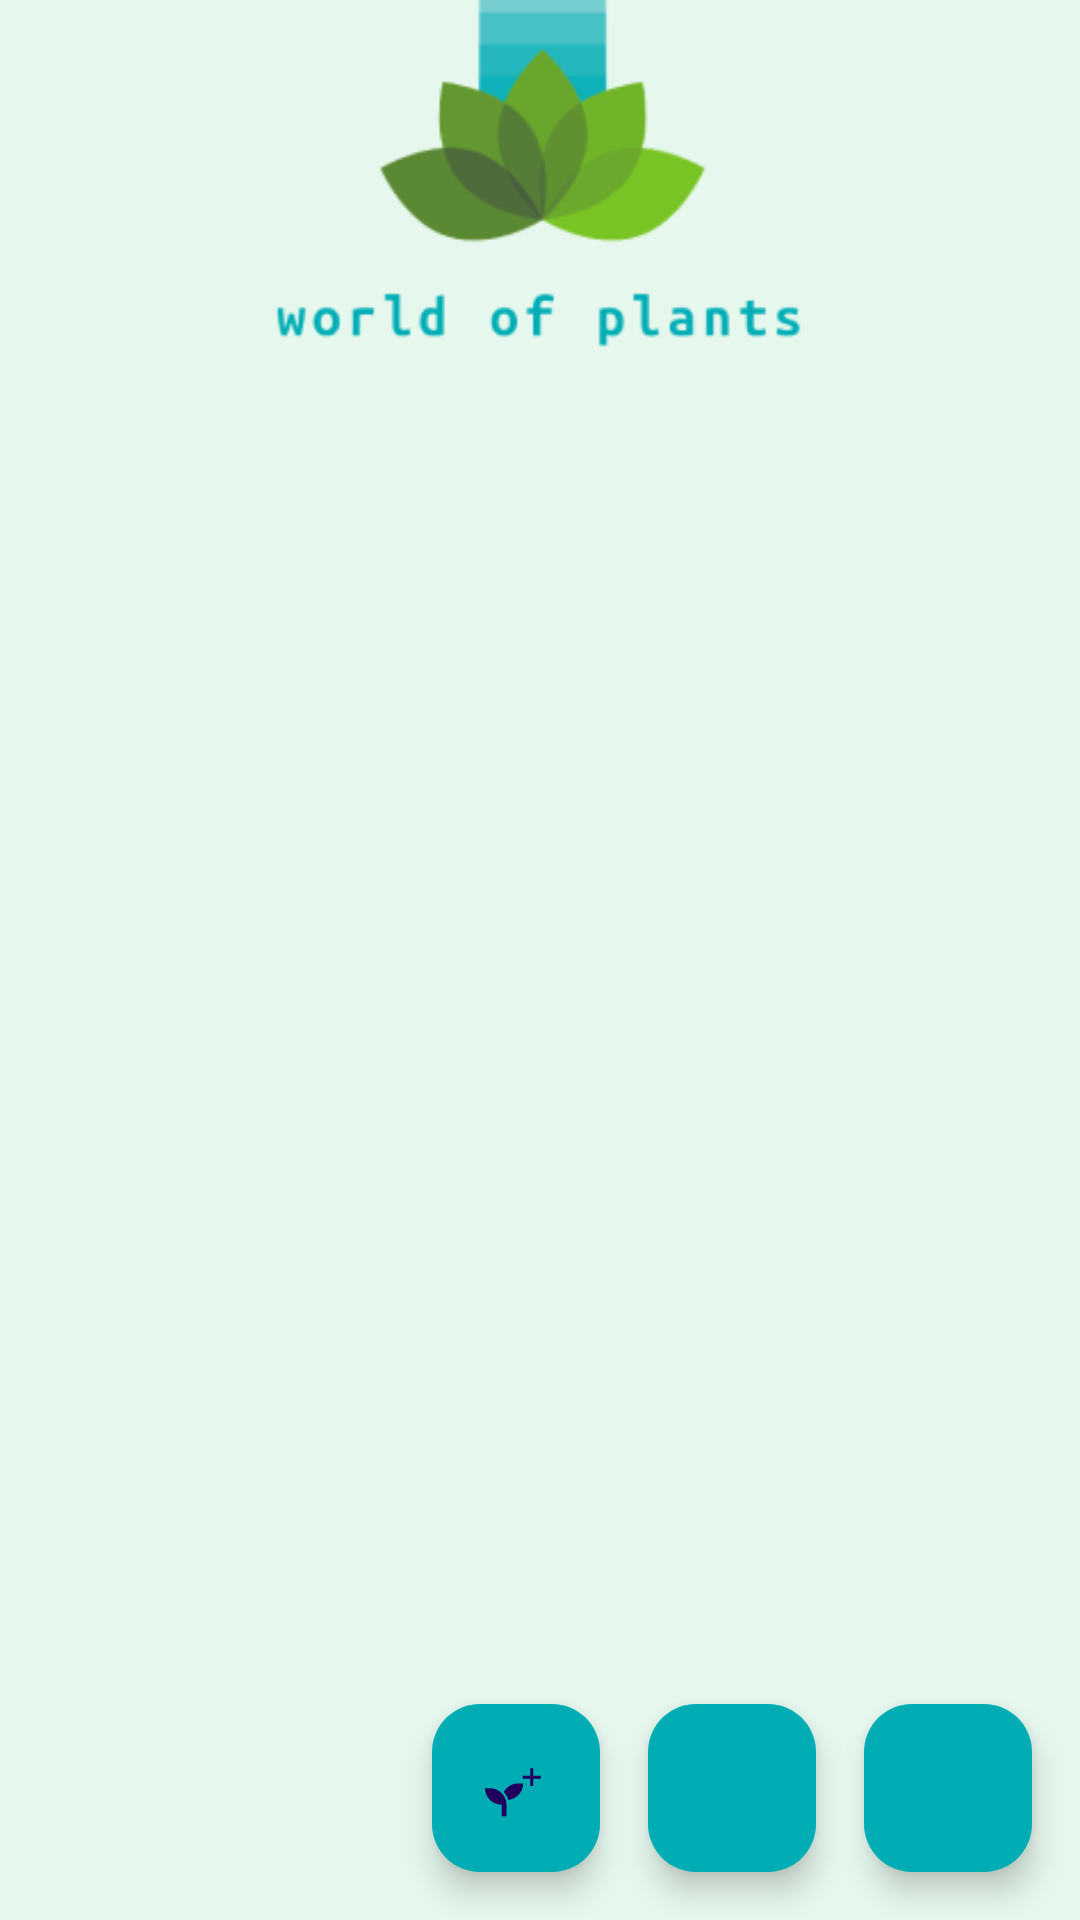

Point at icon controls on the screen. Image size 1080*1920, points as (x,y).
Create Plant: (516,1788)
